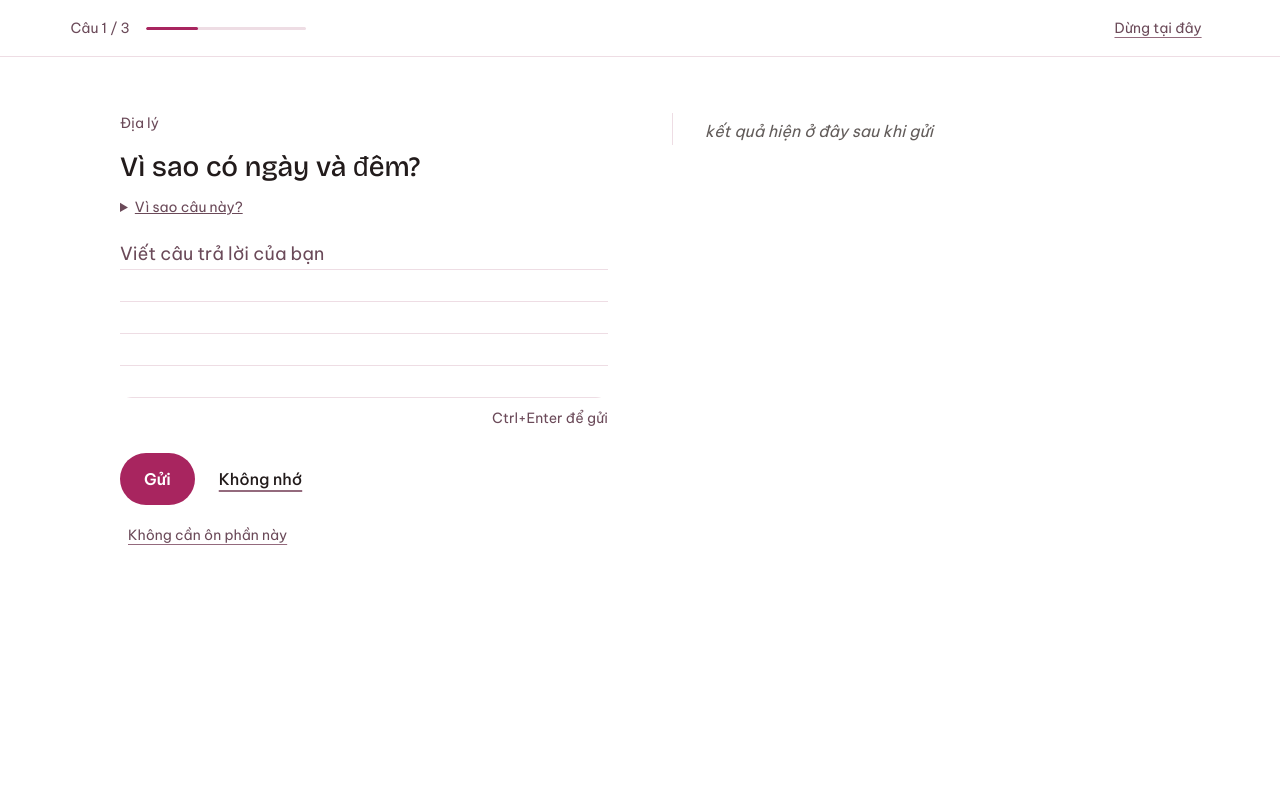
Scenario: Không cần ôn phần này (T2.24, US-04 AC5) › US-04 AC5: one tap skips the unit of the question in this session, no dialog
Click the button "Không cần ôn phần này": x=208, y=535 [120, 513, 295, 557]
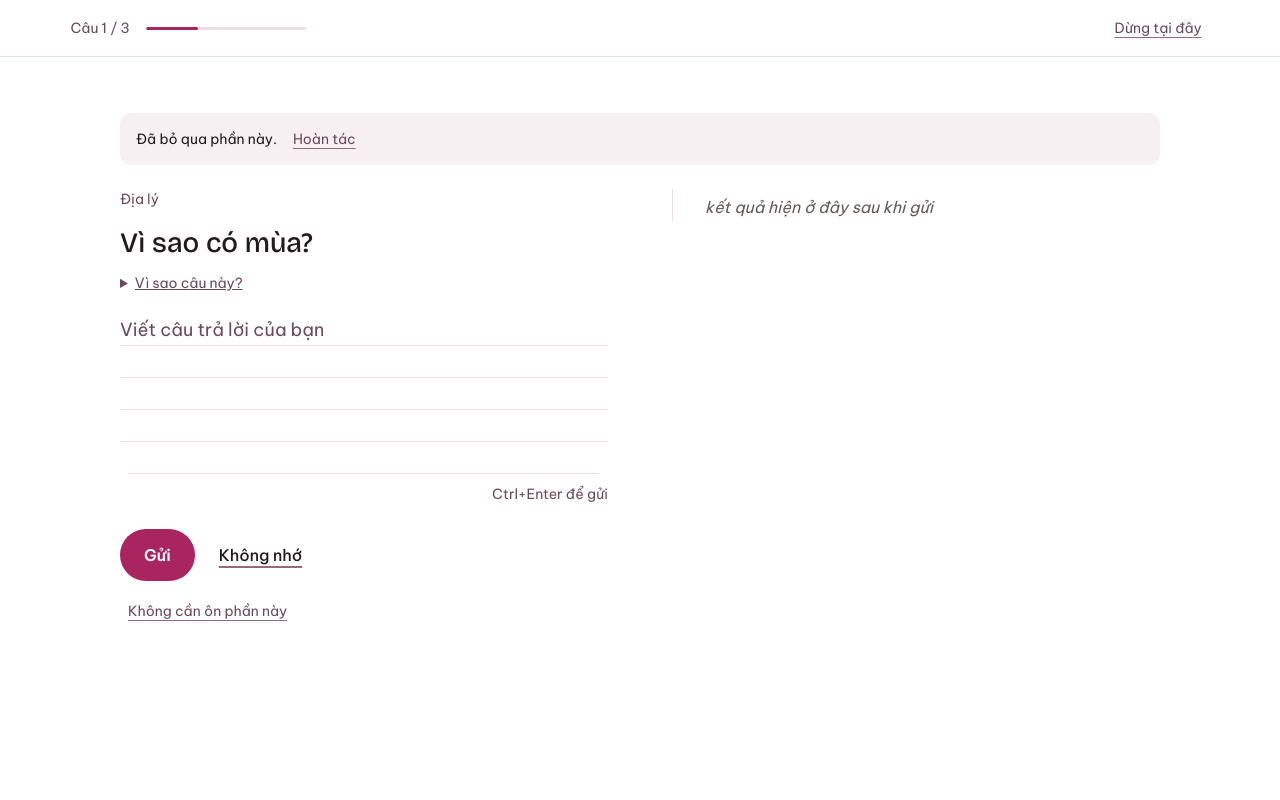
Now the heading "Vì sao có mùa?" is shown, box [120, 226, 313, 260]
Now the message shows "Đã bỏ qua phần này.", box [136, 130, 277, 148]
Now the button "Hoàn tác" is shown, box [285, 117, 364, 161]
